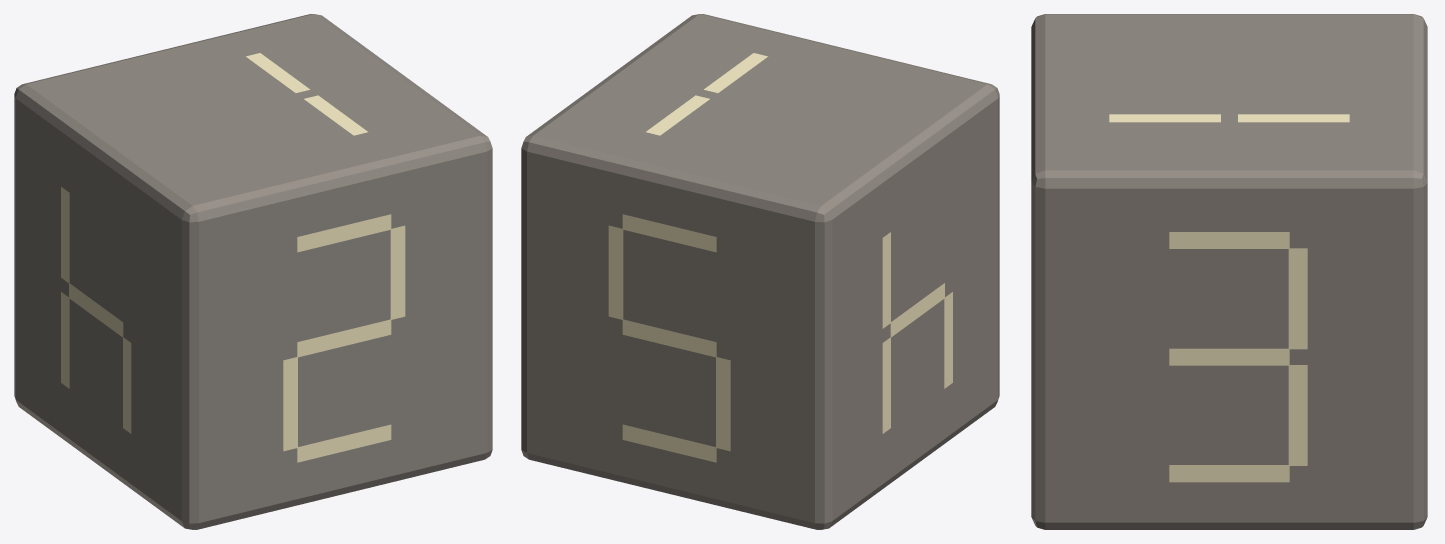
The picture shows the model from 3 angles, left to right: view 1: azimuth 30°, elevation 25°; view 2: azimuth 150°, elevation 25°; view 3: azimuth 270°, elevation 25°; orthographic projection. The views are drawn at different scales.
Parts seen in each view (by area): view 1: RenderMesh, GlyphMesh; view 2: RenderMesh, GlyphMesh; view 3: RenderMesh, GlyphMesh.
Part boxes in pixels (x1,y1,x2,y2): RenderMesh: (14,14,492,529); GlyphMesh: (61,53,405,462); RenderMesh: (521,14,999,529); GlyphMesh: (608,53,952,462); RenderMesh: (1031,14,1427,529); GlyphMesh: (1109,114,1349,482).
Size of what is drawn, in the model's own units: 0.0254 by 0.0254 by 0.0254.
